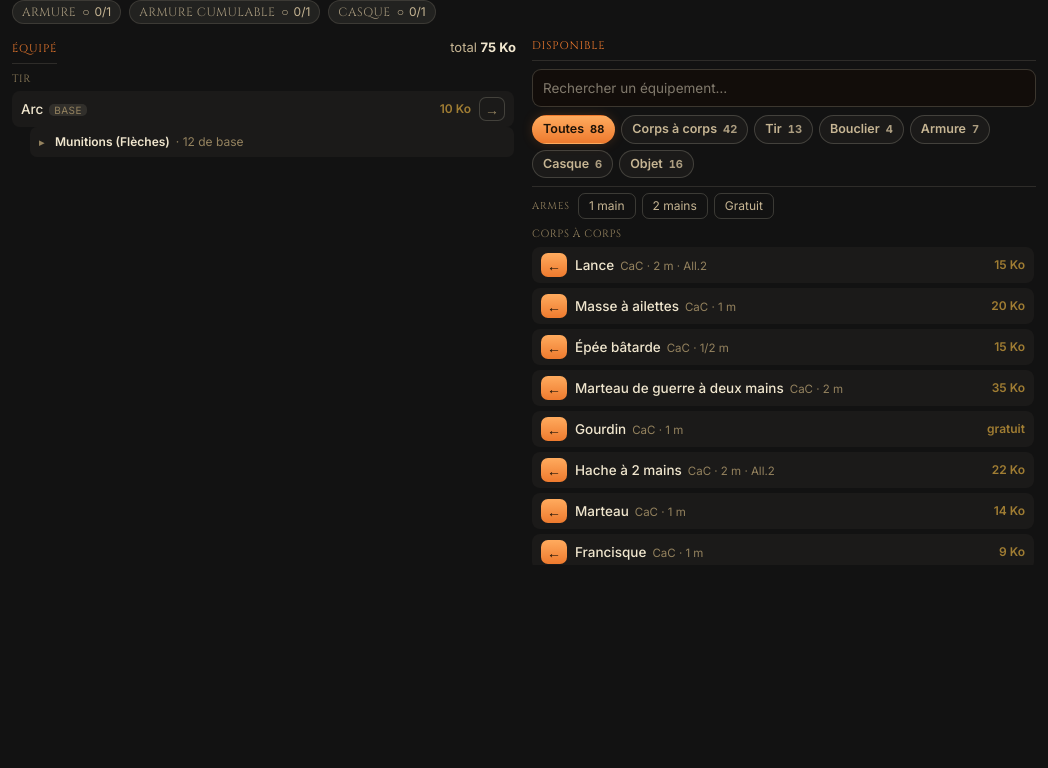
EquipPanel (vue) › munitions interdites sur une arme gratuite › un arc payant la propose toujours
Click the button with class "fe-mun-head" at (88, 142), box [39,133,505,151]
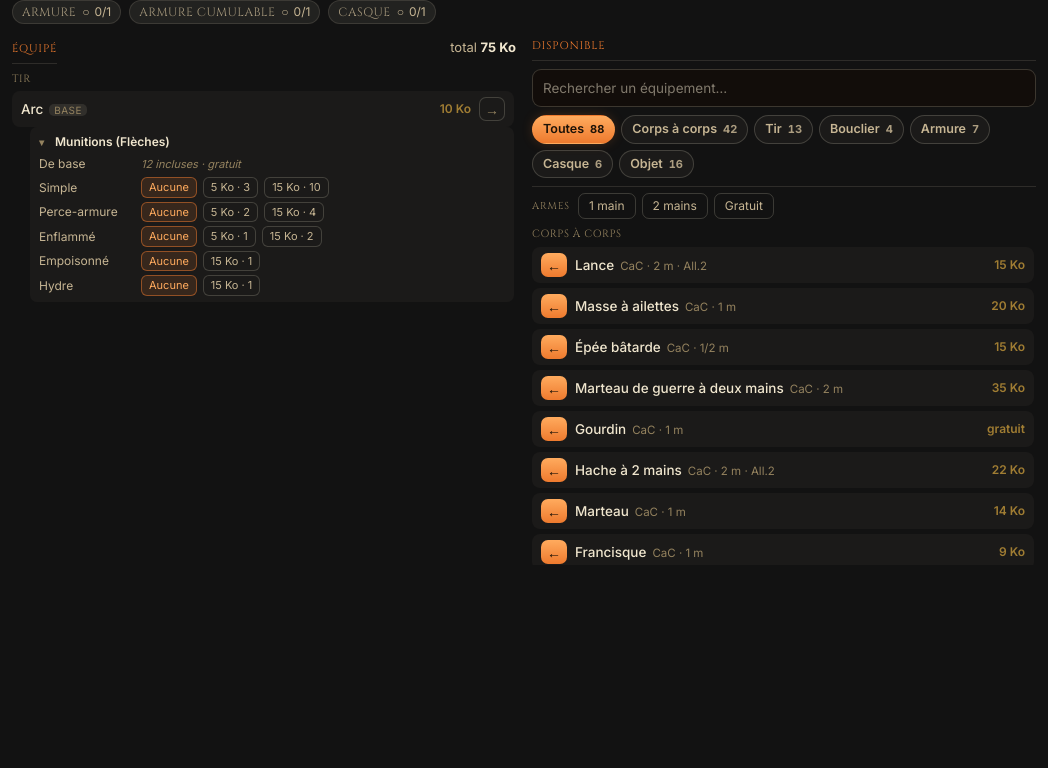
expect the text "Hydre" is shown: met, box [39,278,73,292]
